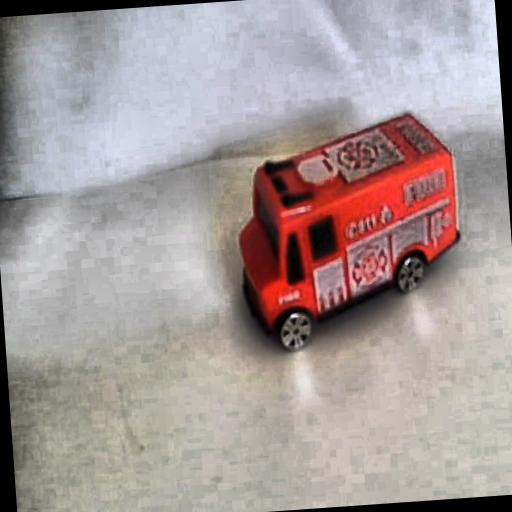fire_truck: (224, 106, 470, 358)
